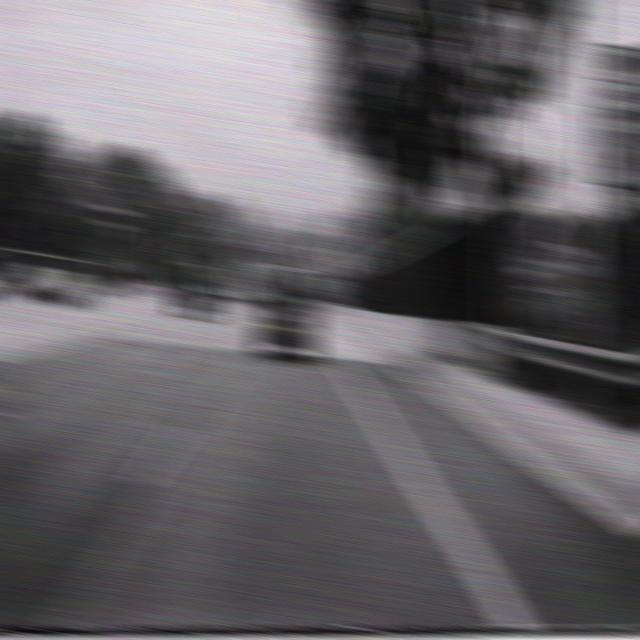pedestrianCrossing: (327, 243, 357, 276)
